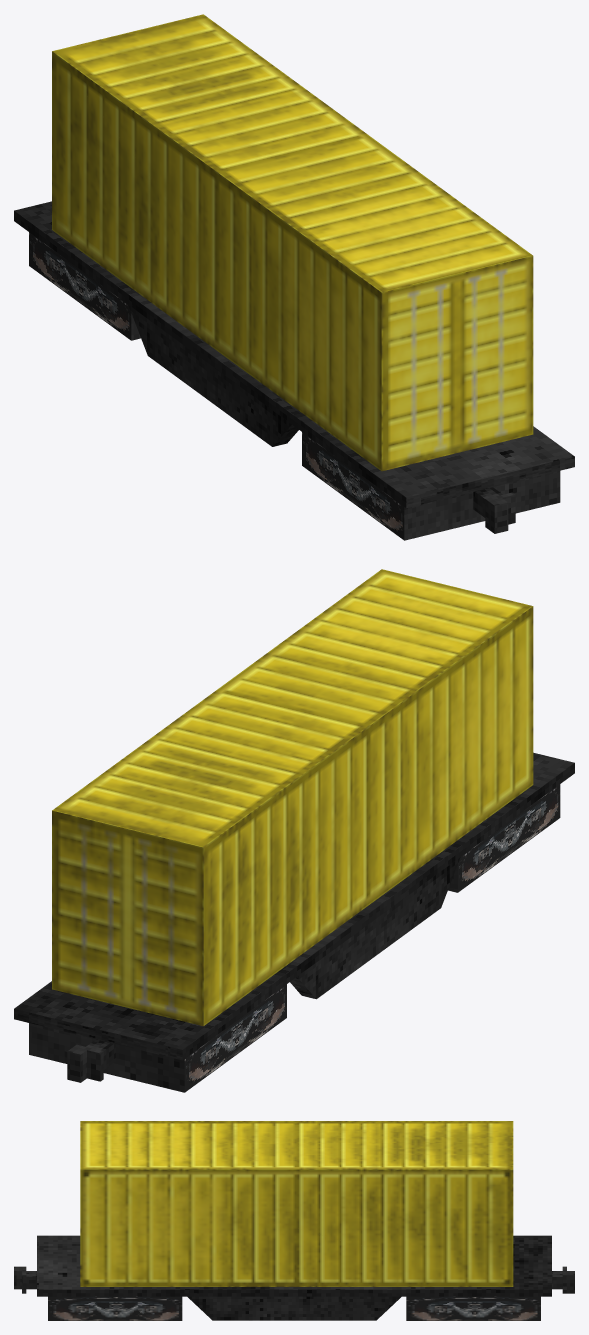
Rendered from pixel_train_car_yellow_lowpoly.fbx.
3 views of the same model, one above another, from view 1: azimuth 30°, elevation 25°; view 2: azimuth 150°, elevation 25°; view 3: azimuth 270°, elevation 25° (orthographic). The views are drawn at different scales.
Visible parts, largest first — view 1: psx_train_car_body_yellow, psx_train_car_underbody, psx_train_car_wheels, psx_train_car_attach; view 2: psx_train_car_body_yellow, psx_train_car_underbody, psx_train_car_wheels, psx_train_car_attach2; view 3: psx_train_car_body_yellow, psx_train_car_underbody, psx_train_car_wheels, psx_train_car_attach, psx_train_car_attach2.
Boxes of the visible parts, bbox=[...] form: psx_train_car_body_yellow: bbox=[52, 14, 533, 471]; psx_train_car_underbody: bbox=[14, 201, 574, 508]; psx_train_car_wheels: bbox=[29, 232, 560, 540]; psx_train_car_attach: bbox=[473, 487, 515, 533]; psx_train_car_body_yellow: bbox=[52, 569, 533, 1026]; psx_train_car_underbody: bbox=[14, 752, 574, 1060]; psx_train_car_wheels: bbox=[29, 784, 560, 1092]; psx_train_car_attach2: bbox=[67, 1039, 115, 1082]; psx_train_car_body_yellow: bbox=[80, 1121, 513, 1286]; psx_train_car_underbody: bbox=[37, 1235, 551, 1320]; psx_train_car_wheels: bbox=[48, 1296, 540, 1320]; psx_train_car_attach: bbox=[14, 1266, 36, 1293]; psx_train_car_attach2: bbox=[552, 1266, 574, 1293].
Bounding box in the file's own units: 340 × 442 × 1492.
